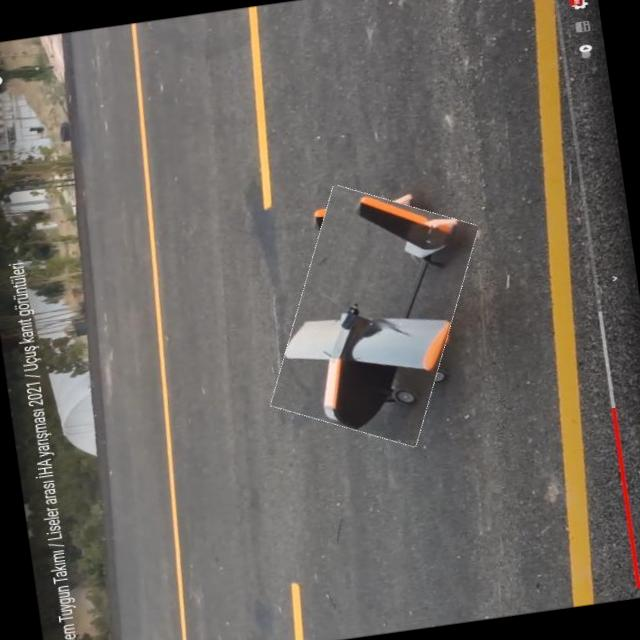UAV: (240, 206, 490, 430)
